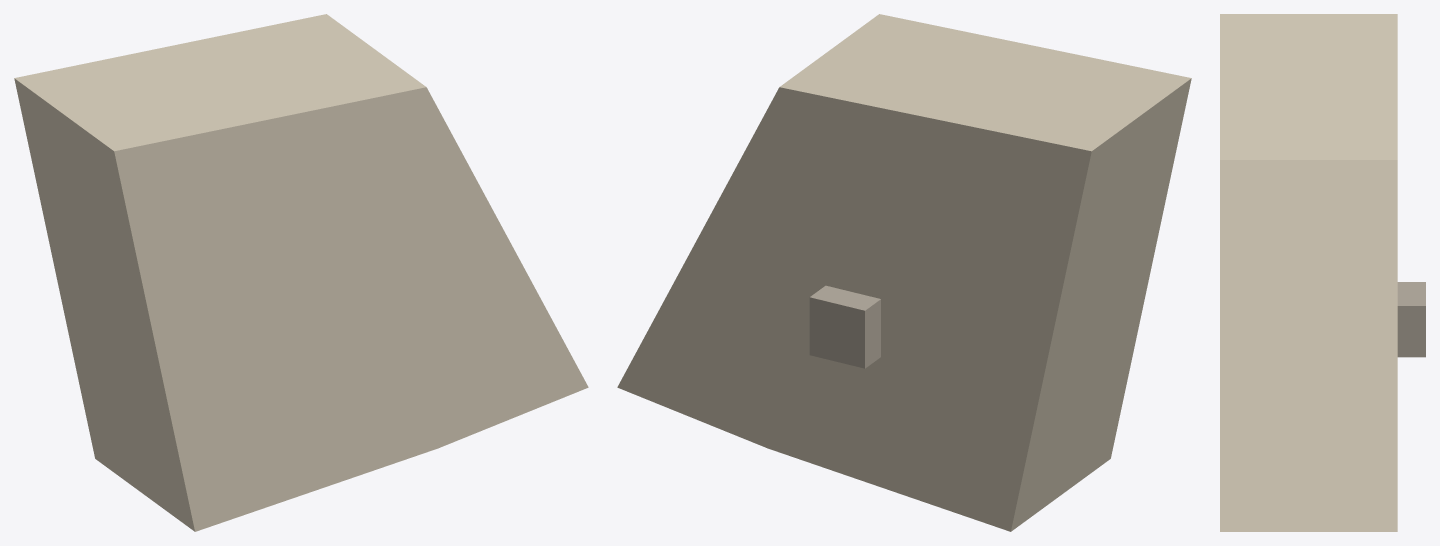
Rendered from historic-palestine-07_17_3487_3118.glb.
3 views of the same model, side by side, from view 1: azimuth 30°, elevation 25°; view 2: azimuth 150°, elevation 25°; view 3: azimuth 270°, elevation 25° (orthographic). The views are drawn at different scales.
Parts seen in each view (by area): view 1: Building_; view 2: Building_, Roof access hut; view 3: Building_, Roof access hut.
Boxes of the visible parts, bbox=[...] form: Building_: bbox=[14, 14, 588, 531]; Building_: bbox=[617, 14, 1191, 531]; Roof access hut: bbox=[809, 285, 880, 368]; Building_: bbox=[1220, 14, 1397, 531]; Roof access hut: bbox=[1397, 282, 1425, 357].
Bounding box in the file's own units: 20.56 × 16.57 × 8.7.
